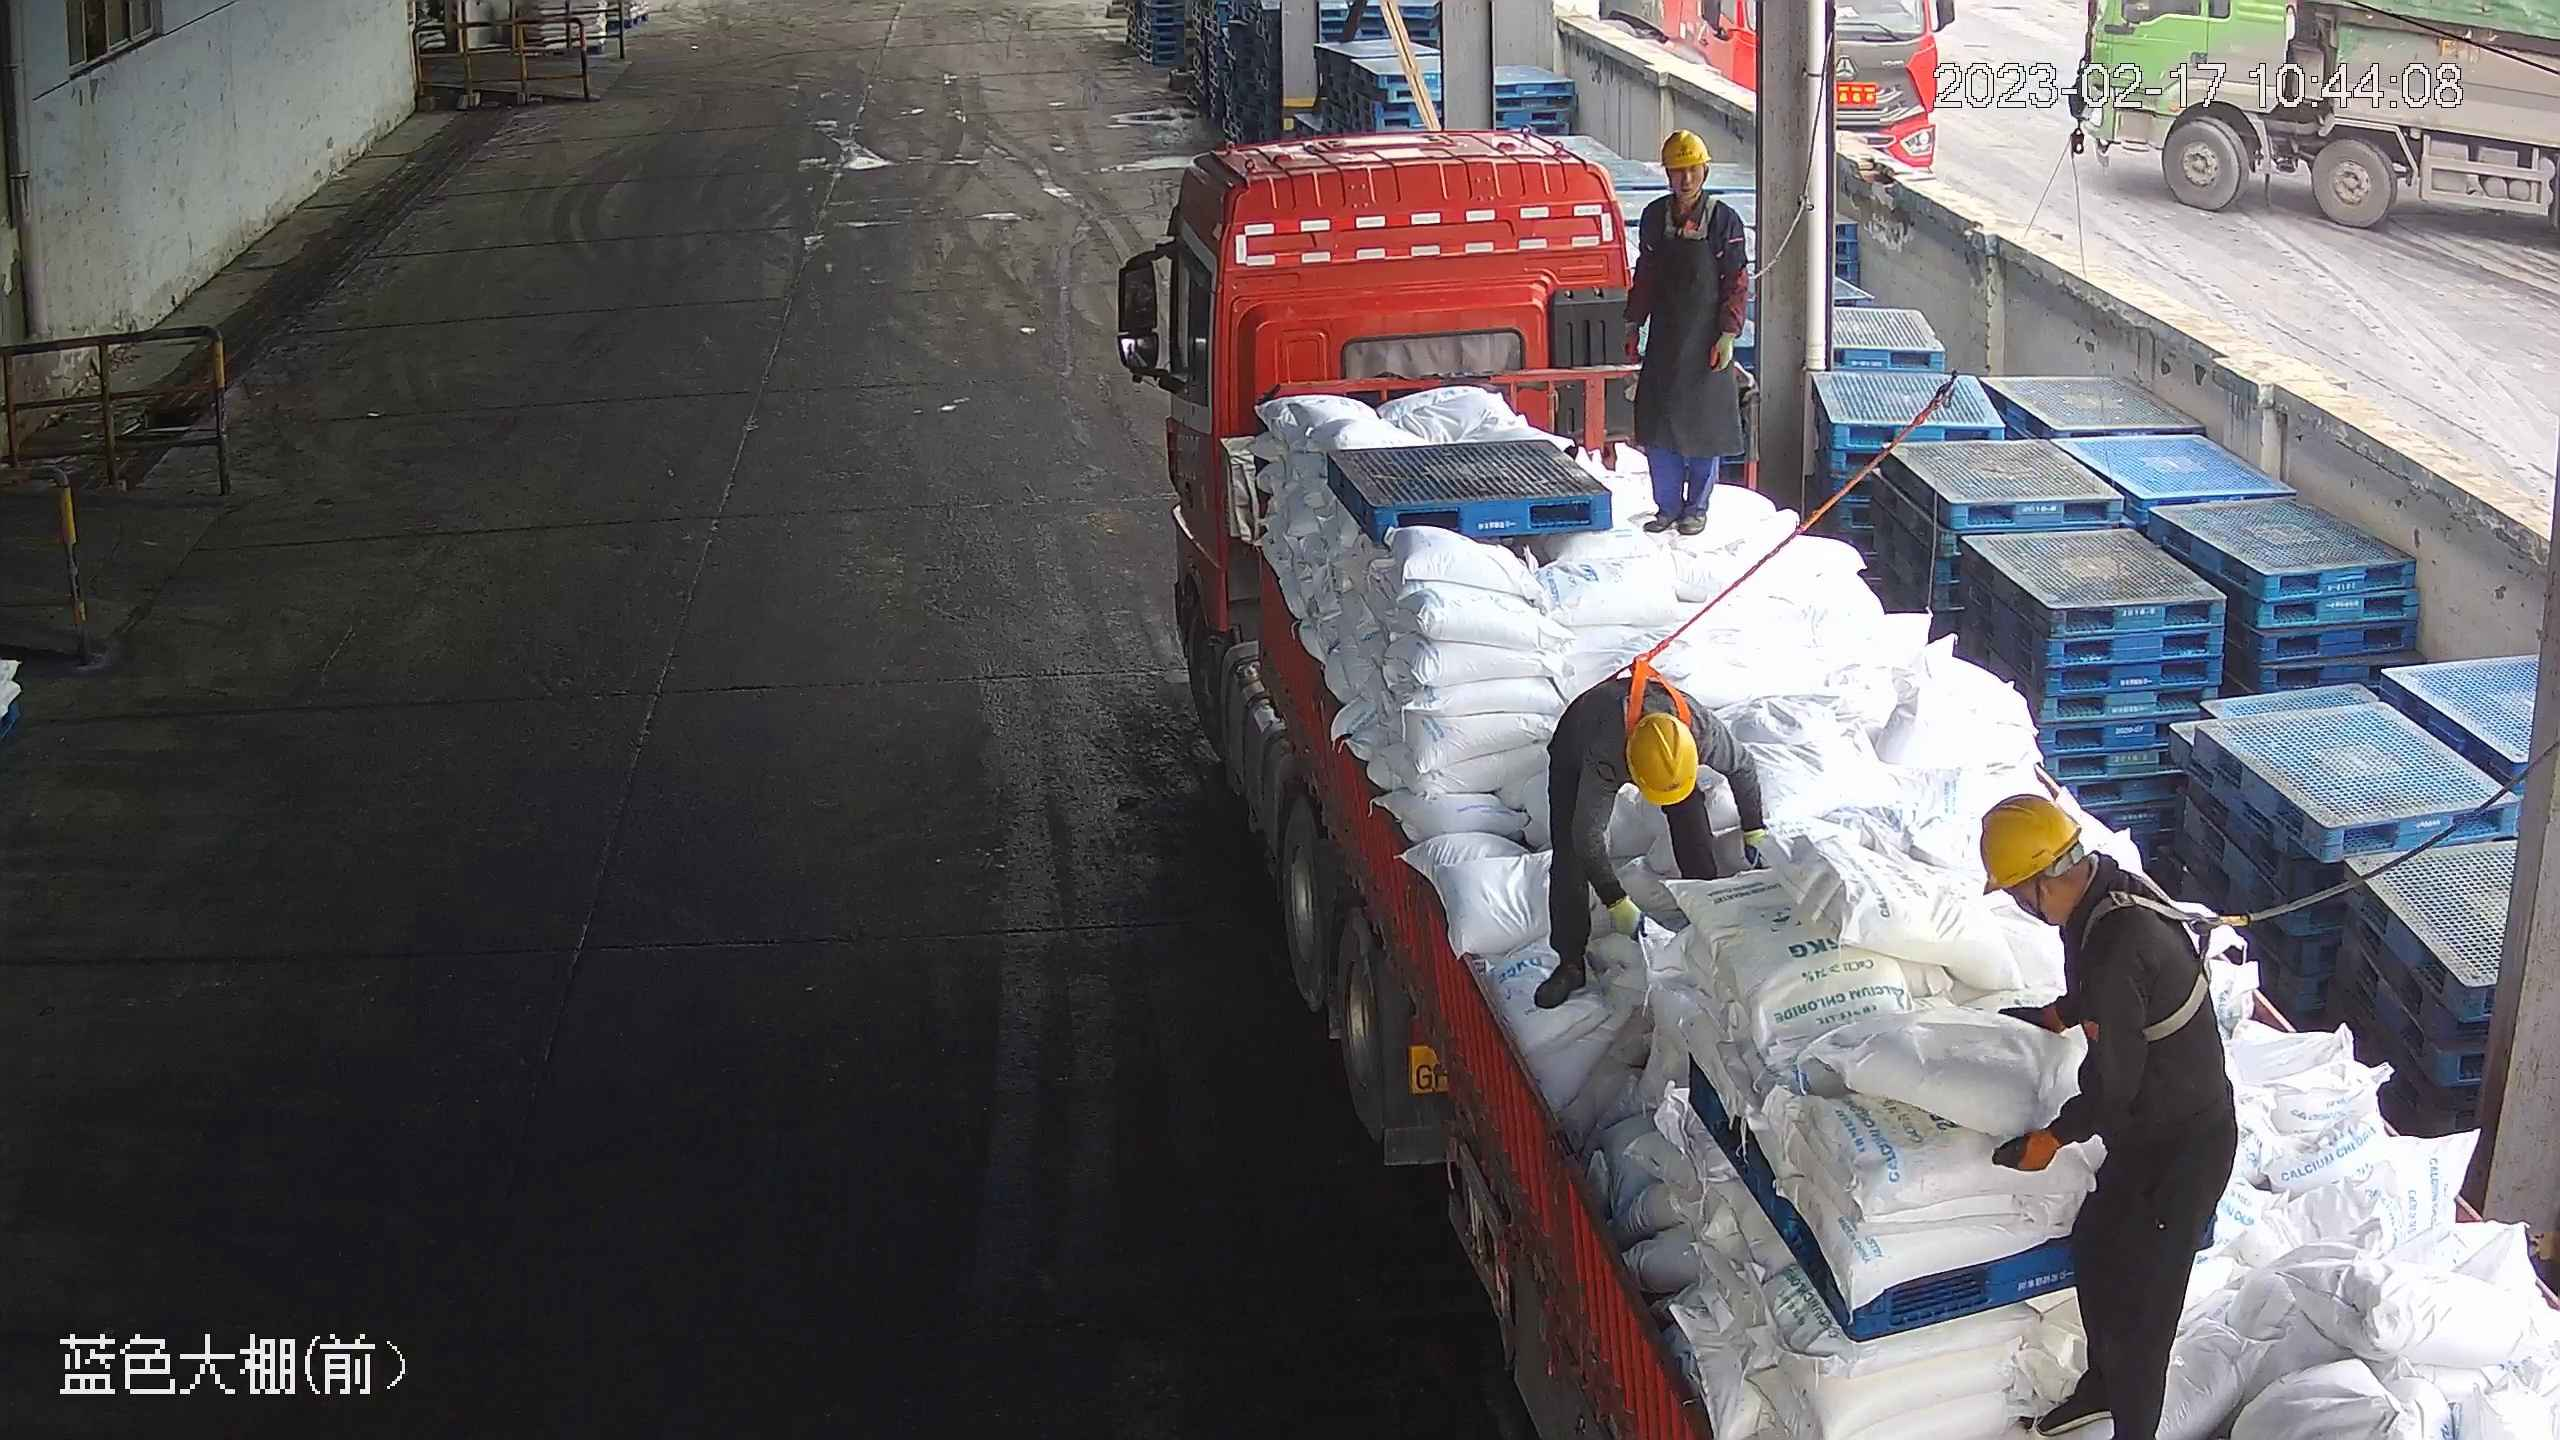belt: (2079, 857, 2257, 1050), (1605, 652, 1705, 732), (1659, 188, 1725, 240)
head: (1981, 791, 2200, 1001), (1574, 674, 1725, 817), (1627, 128, 1735, 249)
helmet: (1981, 789, 2084, 893), (1625, 713, 1696, 806), (1659, 130, 1713, 174)
people: (1978, 791, 2240, 1440), (1532, 676, 1767, 1011), (1627, 128, 1756, 535)
truck: (1113, 125, 2560, 1440)
